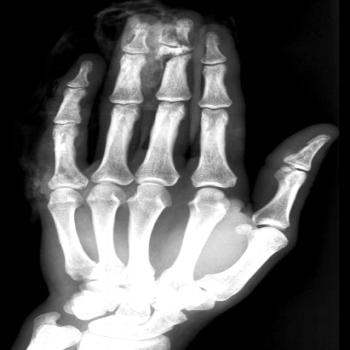Fracture: (154, 18, 204, 55)
